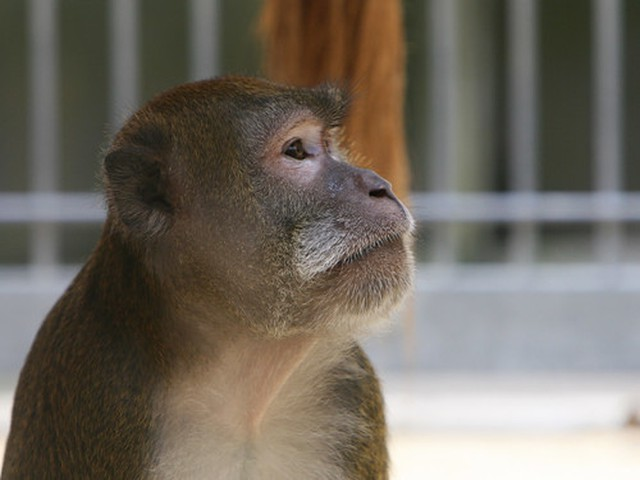Monkey: (5, 72, 427, 480)
